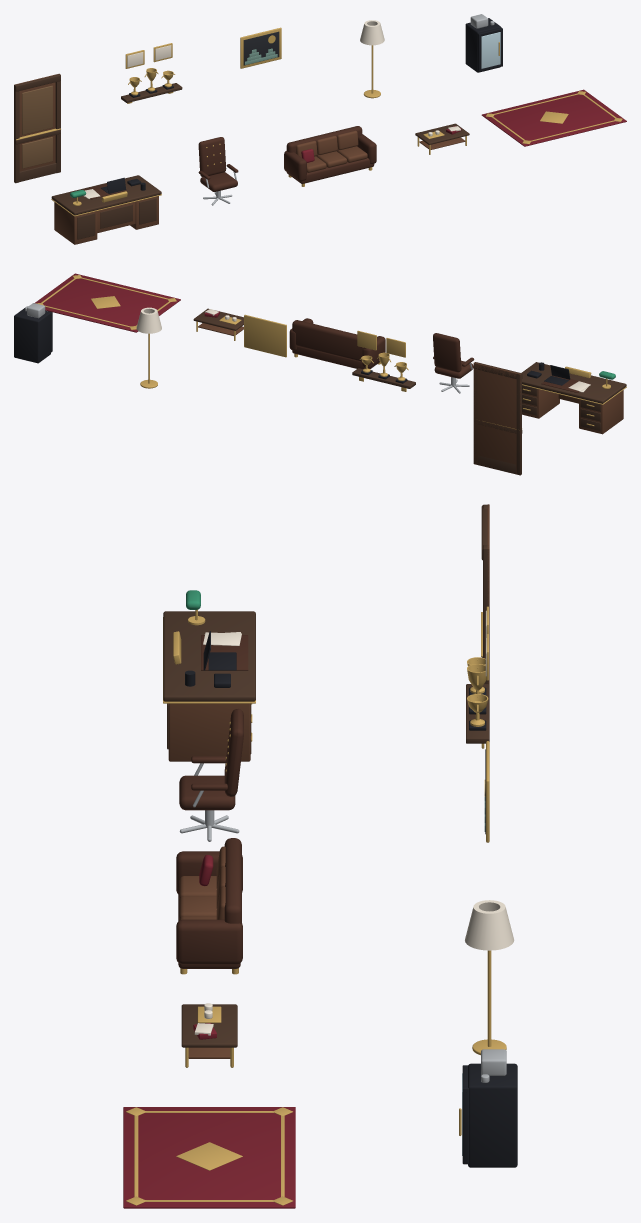
Rendered from exec_room_set.fbx.
3 renders of one model, top to bottom at view 1: azimuth 30°, elevation 25°; view 2: azimuth 150°, elevation 25°; view 3: azimuth 270°, elevation 25°, orthographic. The views are drawn at different scales.
Visible parts, largest first — view 1: ExecRug_Base, ExecPanel_Insets, ExecSofa_Frame, ExecPanel_Frame, ExecSofa_Cushions, ExecDesk_Body, ExecChair_Seat, ExecDesk_Top, ExecDesk_Inset, ExecFridge_Body, ExecPanel_Back, ExecRug_Border (+9 smaller); view 2: ExecPanel_Back, ExecRug_Base, ExecSofa_Frame, ExecFridge_Body, ExecPanel_Frame, ExecDesk_Body, ExecDesk_Top, ExecPicture_Frame, ExecChair_Seat, ExecDesk_Drawers, ExecRug_Border, ExecShelf_Frames (+5 smaller); view 3: ExecRug_Base, ExecDesk_Top, ExecSofa_Frame, ExecFridge_Body, ExecDesk_Body, ExecChair_Seat, ExecRug_Border, ExecSofa_Cushions, ExecLamp_Shade, ExecTable_Top, ExecDesk_Gear, ExecShelf_Trophies.
Boxes of the visible parts, left/top/right/bottom form: ExecRug_Base: left=481, top=89, right=626, bottom=146; ExecPanel_Insets: left=22, top=85, right=52, bottom=168; ExecSofa_Frame: left=284, top=126, right=376, bottom=183; ExecPanel_Frame: left=14, top=74, right=60, bottom=183; ExecSofa_Cushions: left=296, top=130, right=367, bottom=172; ExecDesk_Body: left=54, top=196, right=158, bottom=244; ExecChair_Seat: left=198, top=137, right=238, bottom=191; ExecDesk_Top: left=51, top=175, right=161, bottom=215; ExecDesk_Inset: left=77, top=198, right=156, bottom=239; ExecFridge_Body: left=465, top=18, right=502, bottom=72; ExecPanel_Back: left=14, top=74, right=58, bottom=182; ExecRug_Border: left=486, top=91, right=622, bottom=144; ExecPanel_Back: left=473, top=362, right=520, bottom=475; ExecRug_Base: left=34, top=273, right=180, bottom=332; ExecSofa_Frame: left=289, top=318, right=385, bottom=369; ExecFridge_Body: left=14, top=306, right=52, bottom=363; ExecPanel_Frame: left=473, top=362, right=522, bottom=474; ExecDesk_Body: left=522, top=389, right=623, bottom=434; ExecDesk_Top: left=521, top=362, right=626, bottom=403; ExecPicture_Frame: left=244, top=314, right=286, bottom=357; ExecChair_Seat: left=433, top=333, right=474, bottom=378; ExecDesk_Drawers: left=522, top=385, right=600, bottom=430; ExecRug_Border: left=36, top=275, right=176, bottom=329; ExecShelf_Frames: left=357, top=330, right=405, bottom=357; ExecRug_Base: left=123, top=1107, right=295, bottom=1208; ExecDesk_Top: left=163, top=611, right=255, bottom=701; ExecSofa_Frame: left=176, top=838, right=242, bottom=968; ExecFridge_Body: left=462, top=1063, right=517, bottom=1167; ExecDesk_Body: left=168, top=703, right=250, bottom=761; ExecChair_Seat: left=179, top=709, right=243, bottom=810; ExecRug_Border: left=126, top=1107, right=292, bottom=1205; ExecSofa_Cushions: left=179, top=846, right=225, bottom=920; ExecLamp_Shade: left=465, top=900, right=514, bottom=950; ExecTable_Top: left=181, top=1004, right=237, bottom=1047; ExecDesk_Gear: left=185, top=631, right=236, bottom=687; ExecShelf_Trophies: left=467, top=657, right=488, bottom=748.
Size of the model in its own units: 58.21 by 10.38 by 18.3.
